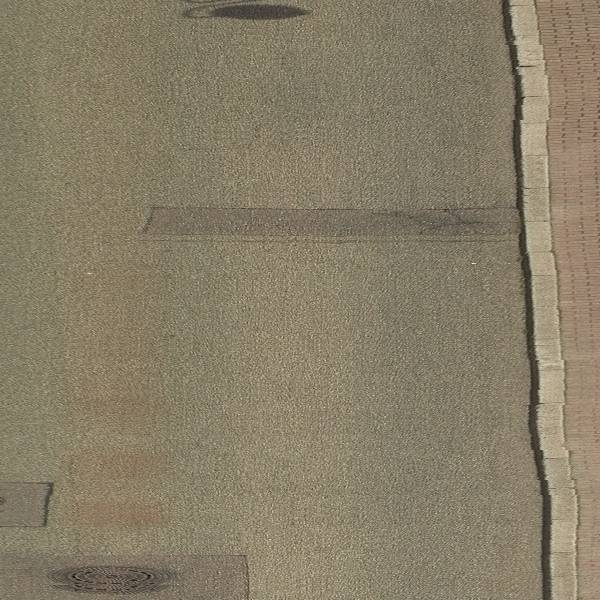road_damage: (121, 190, 511, 252), (1, 542, 263, 598), (1, 466, 66, 543)
